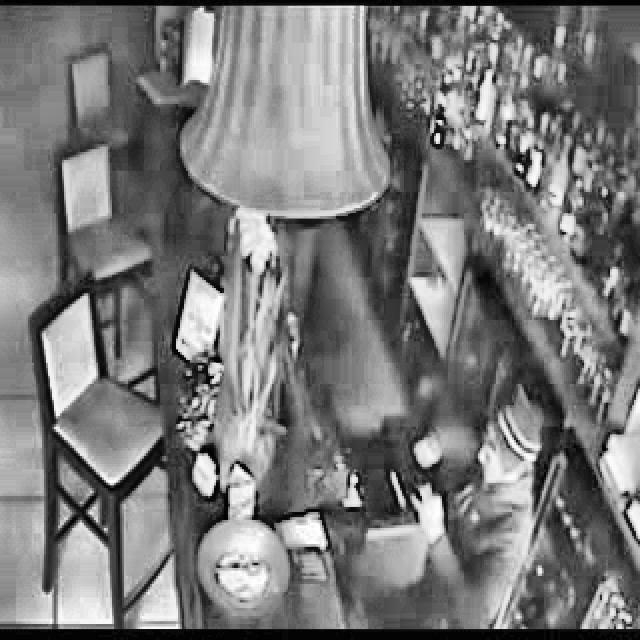burglary: (344, 398, 552, 628)
